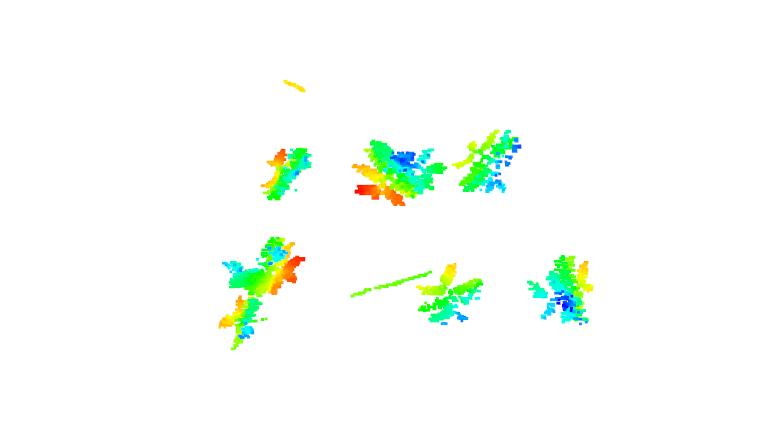chickpea: (351, 137, 447, 205), (212, 235, 307, 297), (529, 254, 597, 329), (453, 125, 522, 198), (253, 145, 316, 203), (418, 266, 483, 322), (211, 299, 277, 354)
